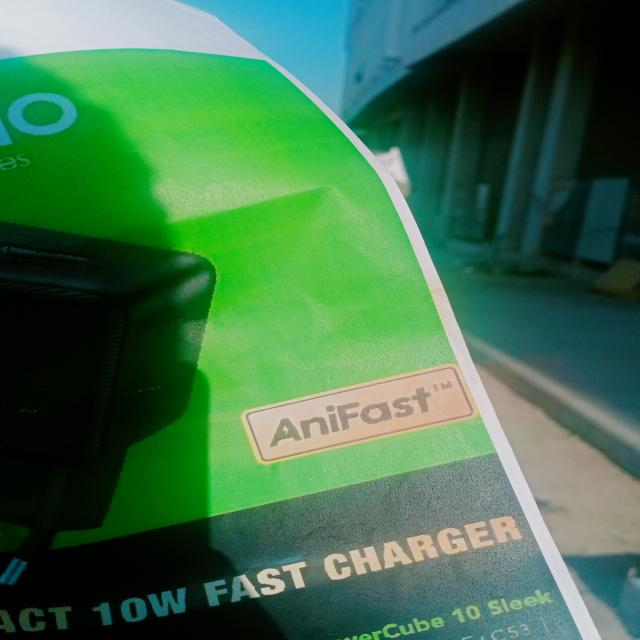PowerCube 10 Sleek OCW-1111ExL53: (326, 583, 571, 640)
